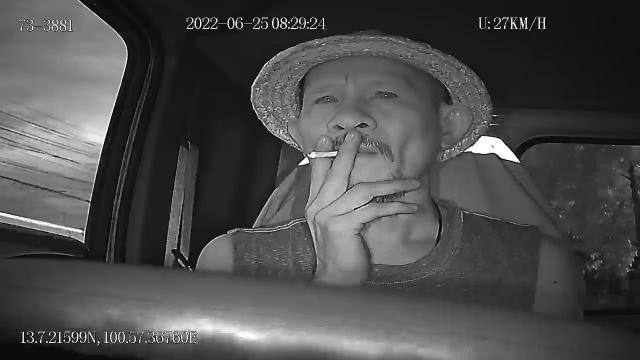SafeDriving: (308, 84, 344, 109), (368, 81, 404, 106)
Smoking: (306, 149, 339, 159)
